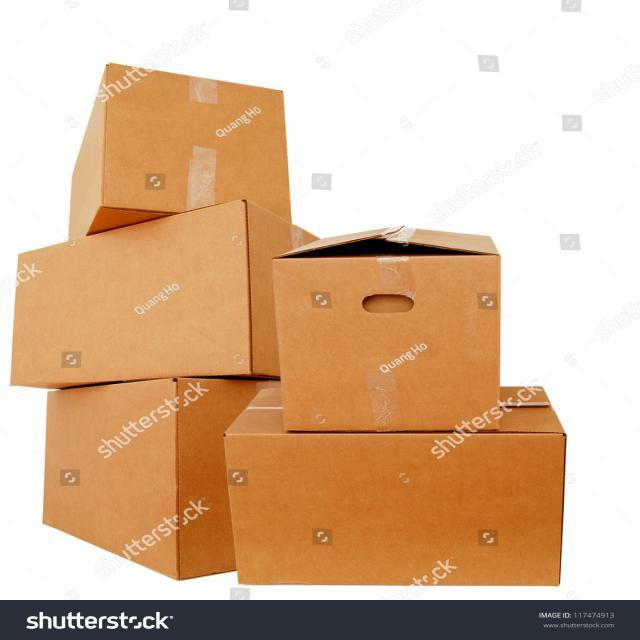BoxFace: (220, 432, 568, 588), (9, 196, 250, 388), (274, 255, 500, 434), (98, 63, 290, 219), (42, 380, 182, 581)
